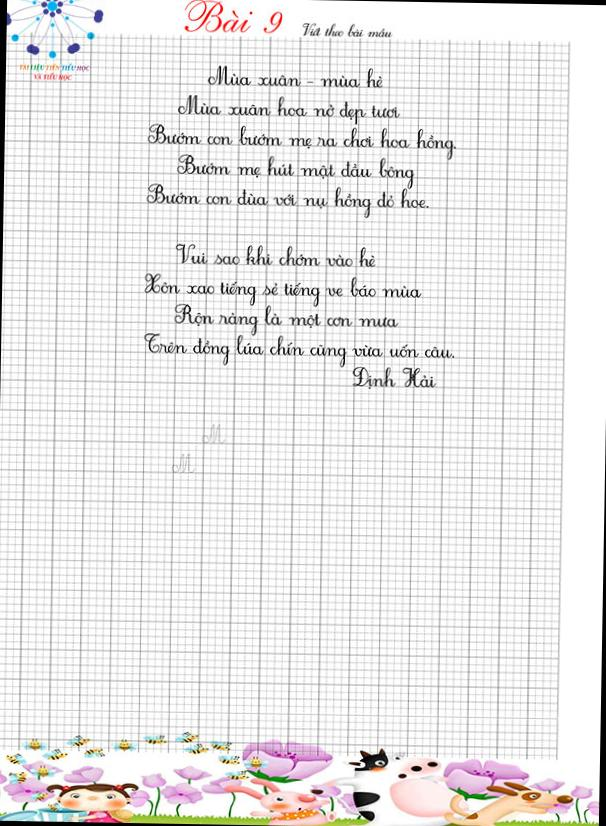text: (142, 329, 458, 373), (143, 122, 459, 162), (145, 181, 431, 223), (140, 271, 424, 310), (174, 152, 416, 191), (171, 302, 400, 340), (178, 0, 395, 40), (176, 91, 403, 128), (174, 240, 378, 270), (205, 62, 386, 92), (350, 364, 440, 394), (199, 421, 230, 447), (16, 62, 89, 73), (168, 454, 198, 476), (31, 69, 72, 83)
